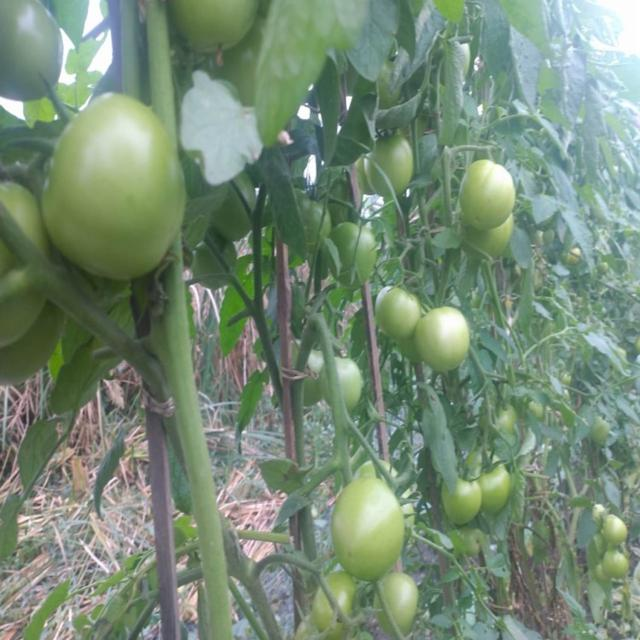tomato: (45, 88, 185, 275), (4, 299, 77, 392), (334, 478, 404, 574), (1, 179, 39, 343), (1, 2, 62, 102), (454, 152, 519, 230), (168, 6, 266, 51), (412, 302, 471, 375), (310, 574, 371, 640), (364, 134, 419, 206), (329, 218, 390, 279), (372, 278, 418, 346), (320, 351, 364, 419), (375, 573, 423, 631), (442, 465, 481, 525), (482, 455, 513, 512), (473, 211, 515, 251), (597, 543, 640, 581), (297, 347, 322, 410), (482, 393, 517, 435), (598, 511, 633, 551), (590, 502, 605, 531)
